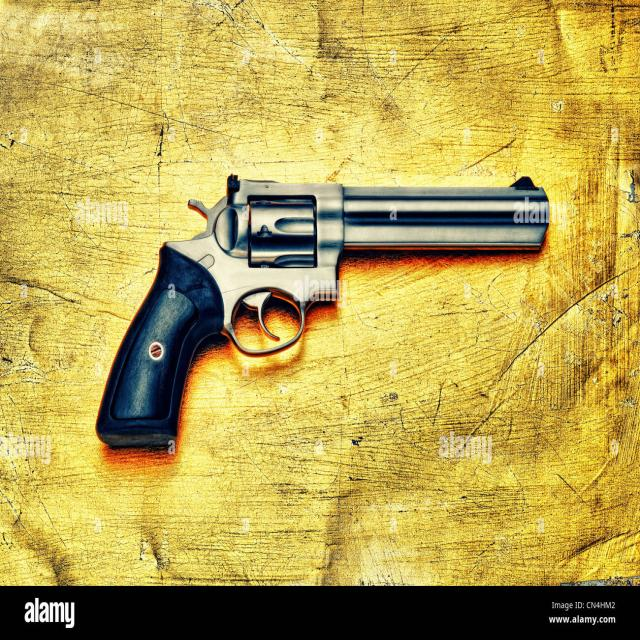HandGun: (96, 174, 552, 448)
